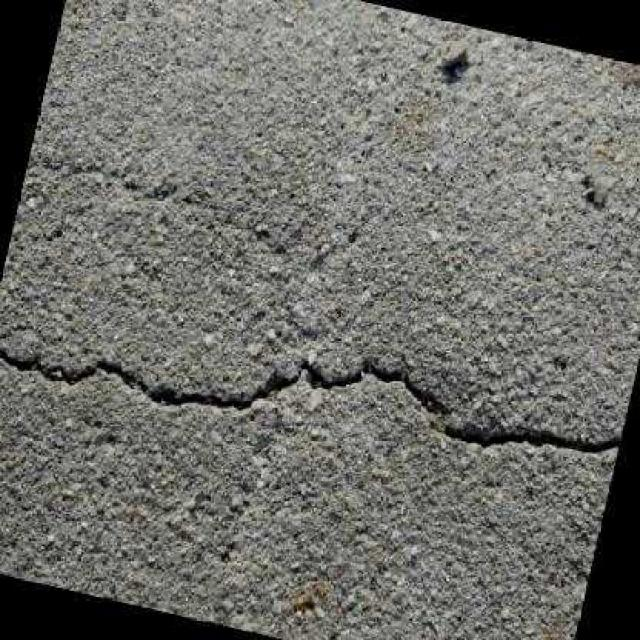D00: (0, 354, 623, 453)
